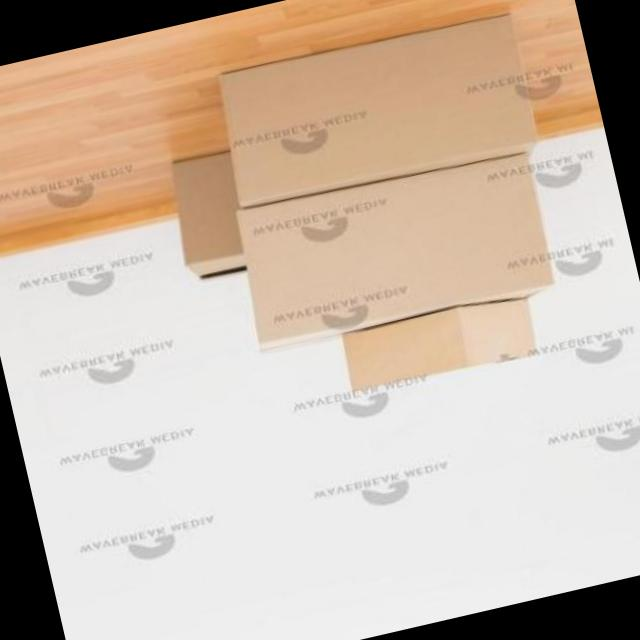box: (189, 0, 565, 230), (211, 136, 590, 362), (327, 276, 563, 416), (150, 127, 272, 285)
